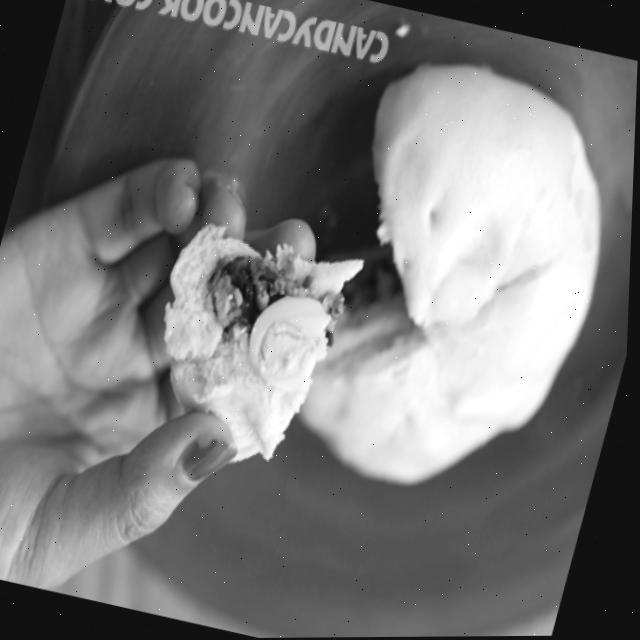带馅早点: (103, 0, 640, 615)
